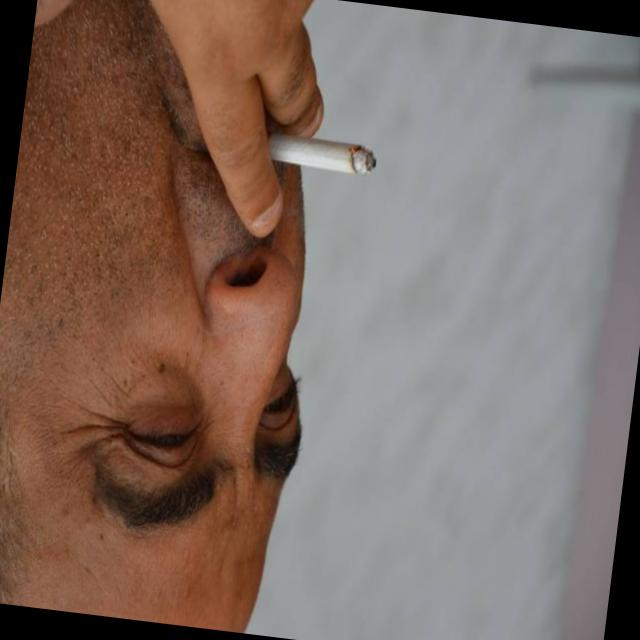cigarette: (266, 125, 381, 182)
